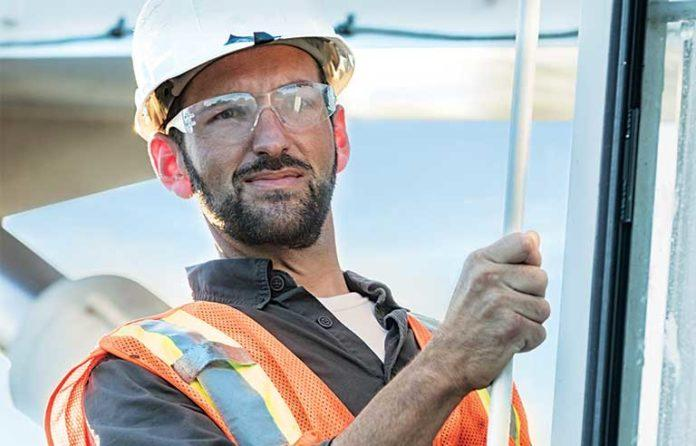helmet: (120, 2, 367, 136)
